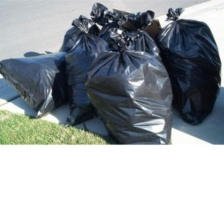plastic_bag: (80, 29, 178, 145), (152, 5, 224, 129), (59, 16, 113, 129), (0, 48, 74, 120), (105, 7, 163, 62)
